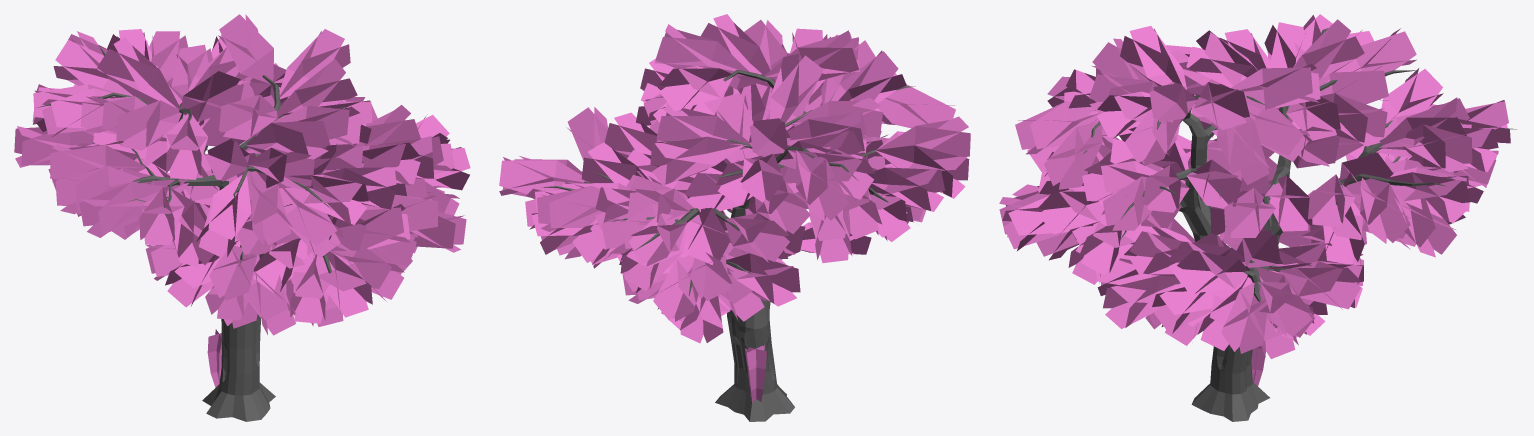
Rendered from m_tree_sakura02.fbx.
3 views of the same model, side by side, from view 1: azimuth 30°, elevation 25°; view 2: azimuth 150°, elevation 25°; view 3: azimuth 270°, elevation 25° (orthographic).
Visible parts, largest first — view 1: mesh_tree_sakura02_LOD0; view 2: mesh_tree_sakura02_LOD0; view 3: mesh_tree_sakura02_LOD0.
Part boxes in pixels (x1,y1,x2,y2): mesh_tree_sakura02_LOD0: (14,14,470,421); mesh_tree_sakura02_LOD0: (499,14,970,421); mesh_tree_sakura02_LOD0: (999,14,1516,421).
Size of what is drawn, in the model's own units: 11.36 by 9.36 by 12.28.
